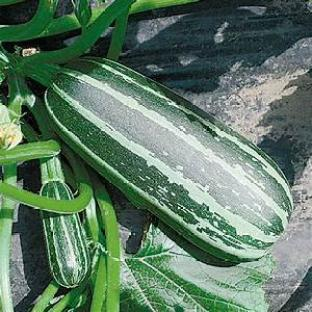Zucchini: (46, 59, 293, 261), (42, 213, 90, 288)
